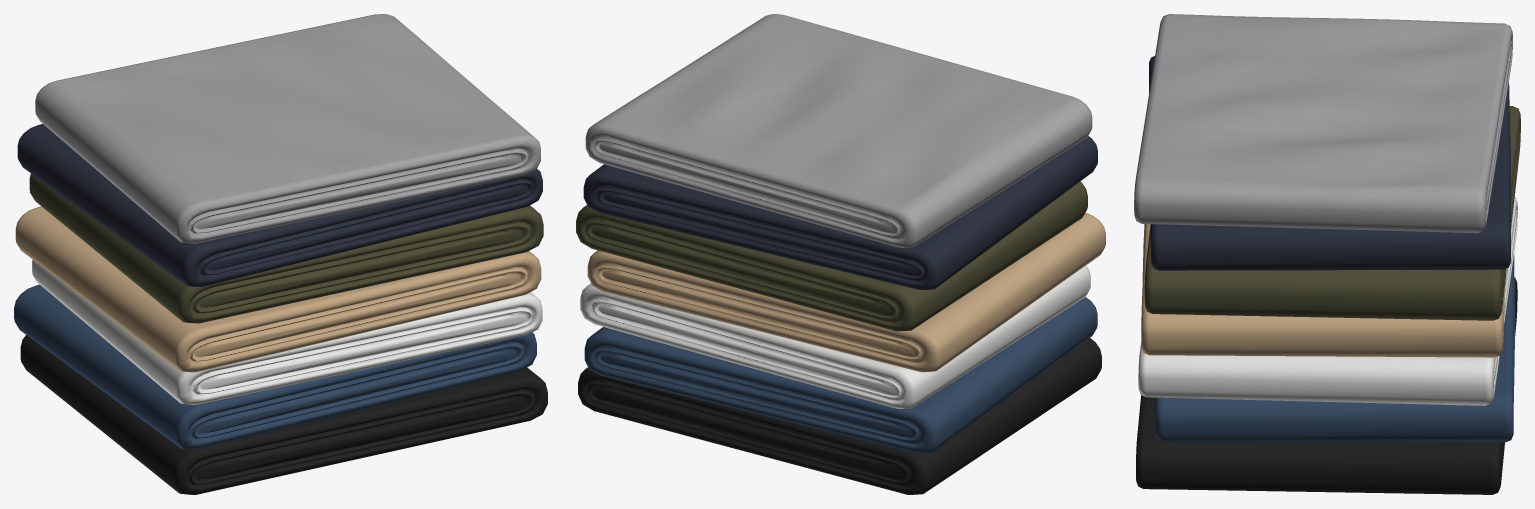
File: item-cloth.glb
3 views of the same model, side by side, from view 1: azimuth 30°, elevation 25°; view 2: azimuth 150°, elevation 25°; view 3: azimuth 270°, elevation 25° (orthographic). The views are drawn at different scales.
Parts seen in each view (by area): view 1: Garment_Grey_6, Garment_Tan_3, Garment_Black_0, Garment_Denim_1, Garment_Navy_5, Garment_Olive_4, Garment_White_2; view 2: Garment_Grey_6, Garment_Denim_1, Garment_Navy_5, Garment_Tan_3, Garment_Black_0, Garment_Olive_4, Garment_White_2; view 3: Garment_Grey_6, Garment_Black_0, Garment_Olive_4, Garment_Navy_5, Garment_White_2, Garment_Denim_1, Garment_Tan_3.
Part boxes in pixels (bbox=[...]): Garment_Grey_6: bbox=[35, 14, 540, 243]; Garment_Tan_3: bbox=[15, 206, 541, 372]; Garment_Black_0: bbox=[20, 335, 547, 494]; Garment_Denim_1: bbox=[14, 284, 536, 449]; Garment_Navy_5: bbox=[17, 124, 542, 286]; Garment_Olive_4: bbox=[29, 173, 543, 323]; Garment_White_2: bbox=[32, 259, 542, 404]; Garment_Grey_6: bbox=[585, 14, 1092, 247]; Garment_Denim_1: bbox=[584, 297, 1097, 453]; Garment_Navy_5: bbox=[583, 136, 1097, 289]; Garment_Tan_3: bbox=[587, 212, 1105, 372]; Garment_Black_0: bbox=[578, 338, 1101, 494]; Garment_Olive_4: bbox=[576, 181, 1087, 331]; Garment_White_2: bbox=[580, 265, 1090, 408]; Garment_Grey_6: bbox=[1134, 14, 1512, 233]; Garment_Black_0: bbox=[1136, 277, 1517, 494]; Garment_Olive_4: bbox=[1144, 106, 1520, 320]; Garment_Navy_5: bbox=[1149, 56, 1510, 270]; Garment_White_2: bbox=[1138, 196, 1517, 405]; Garment_Denim_1: bbox=[1155, 254, 1514, 442]; Garment_Tan_3: bbox=[1141, 224, 1505, 357].
Bounding box in the file's own units: 0.4896 × 0.3612 × 0.4087.
